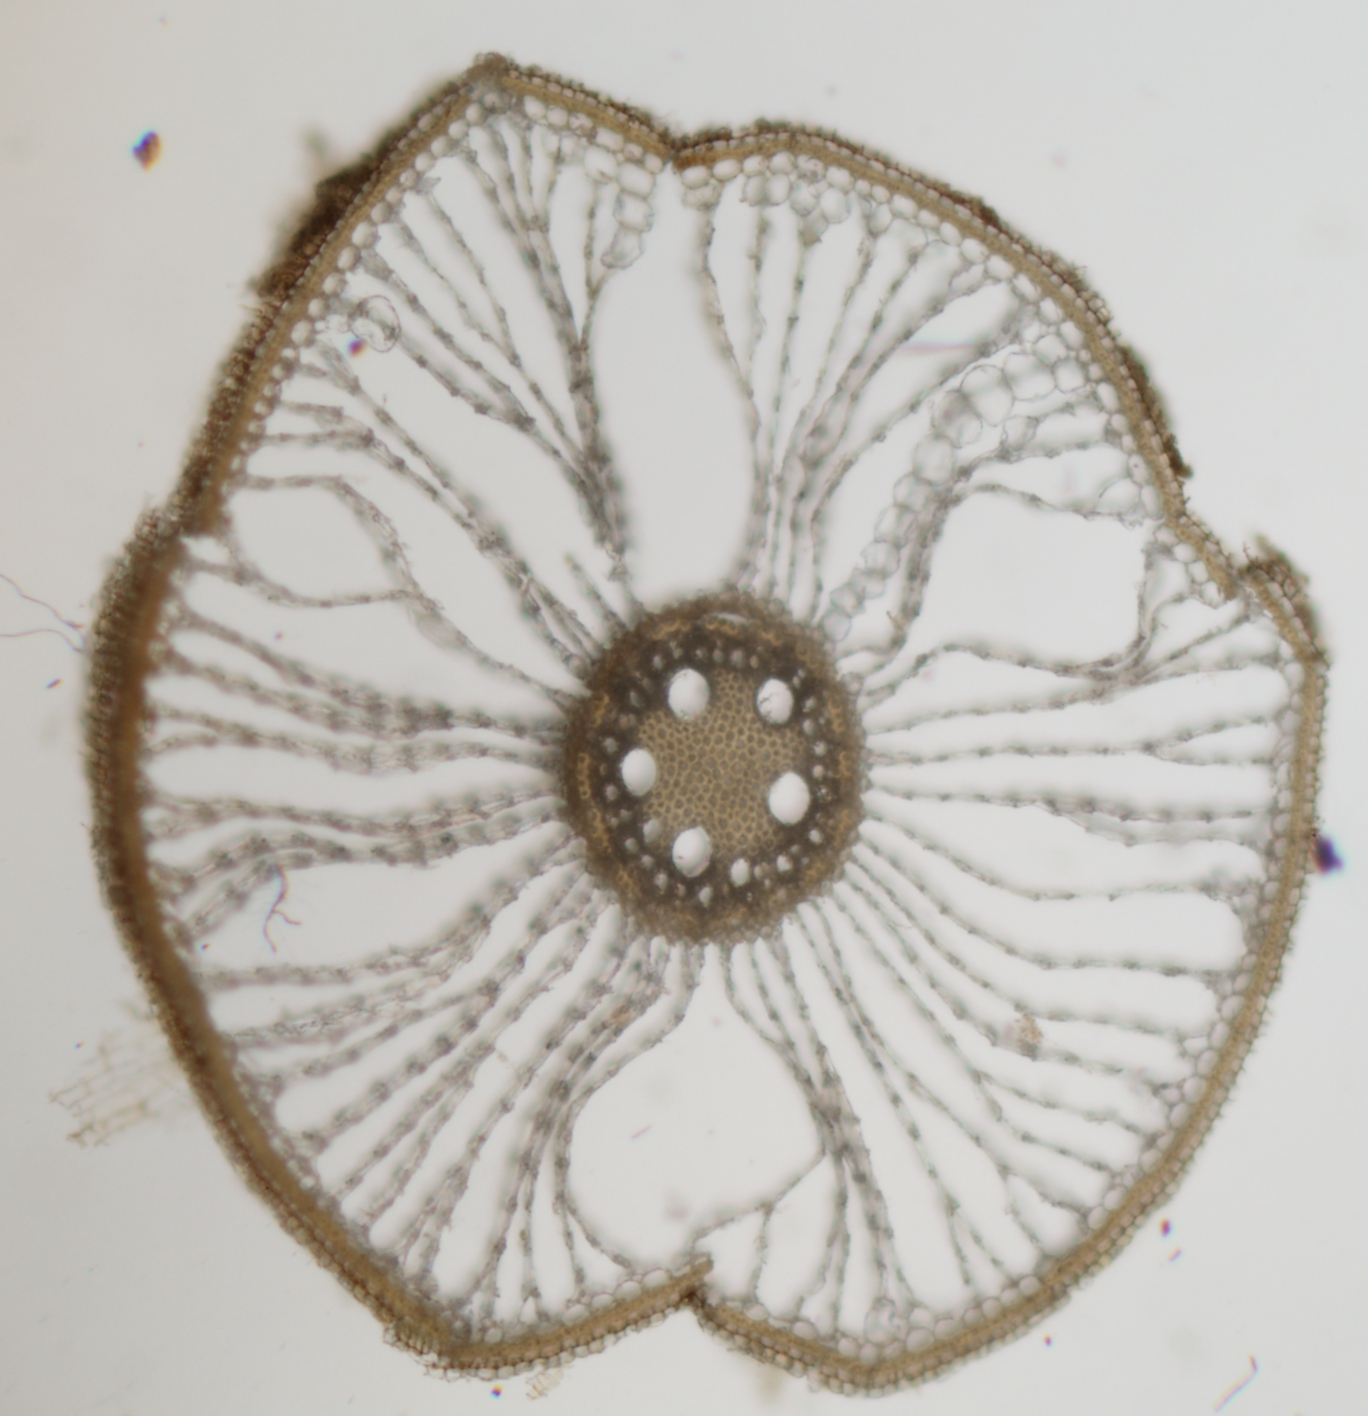lm: (767, 770, 810, 826), (669, 669, 709, 719), (673, 826, 711, 877), (755, 676, 793, 724), (621, 748, 657, 795)
